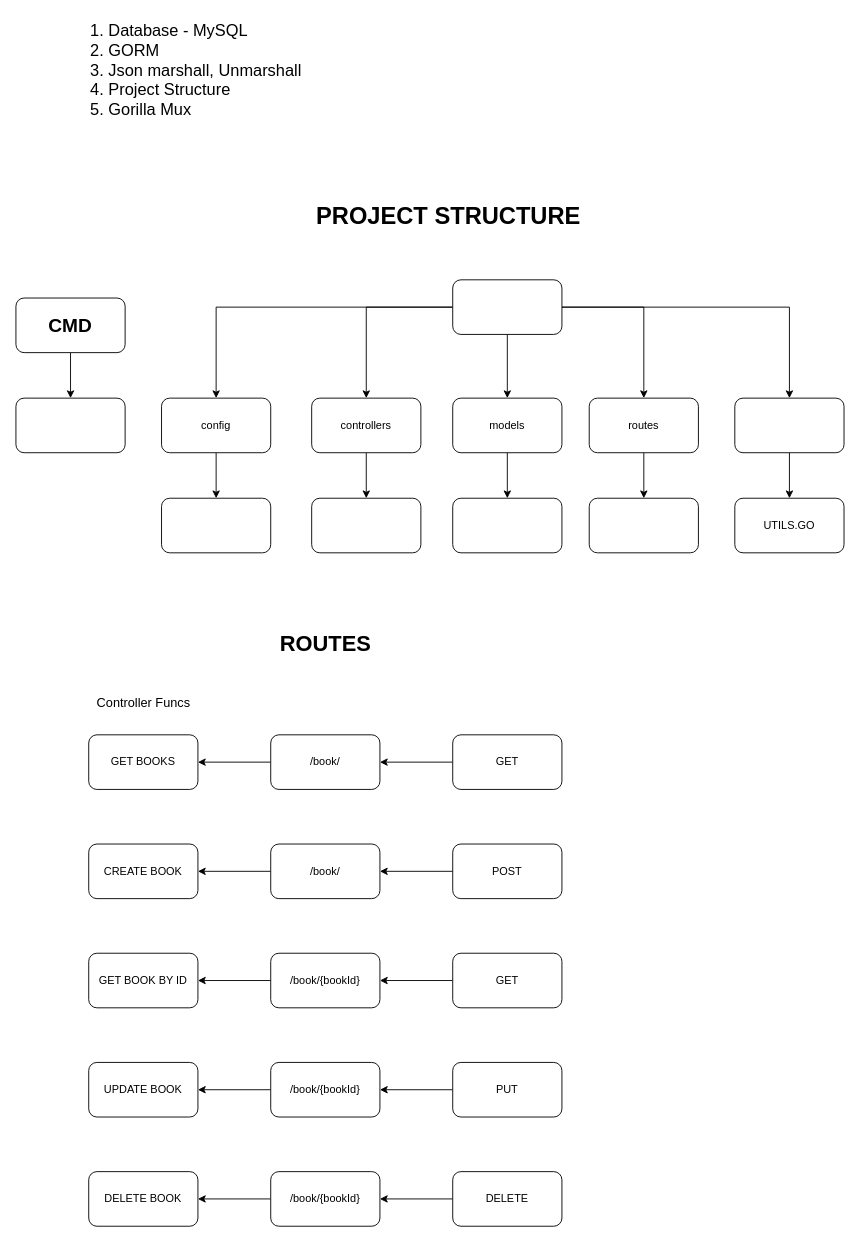
The diagram is 860 pixels wide and 1242 high, and some of its shapes have lost their labels. Each missing label, with the box of its shape:
APP.GO: (161, 497, 271, 553)
BOOK CONTROLLER: (311, 497, 421, 553)
BOOK.GO: (452, 497, 562, 553)
BOOKSTORE ROUTES: (588, 497, 698, 553)
MAIN.GO: (15, 397, 125, 453)
PKG: (452, 279, 562, 334)
utils: (734, 397, 844, 453)
